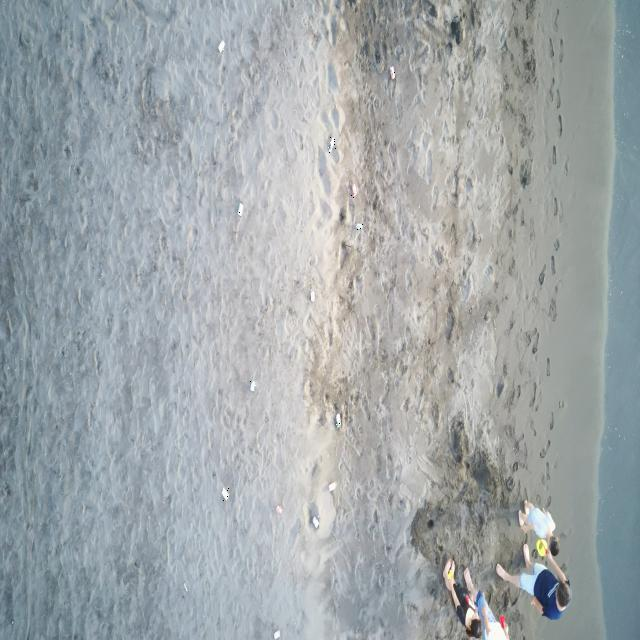Garbage: (535, 539, 547, 556), (499, 615, 507, 635), (327, 136, 335, 151), (388, 65, 395, 80), (236, 202, 243, 216), (327, 480, 335, 491), (312, 515, 319, 527), (221, 488, 228, 500), (350, 183, 356, 196), (335, 412, 340, 427), (249, 380, 255, 391), (273, 631, 280, 639), (219, 40, 224, 51), (275, 504, 281, 513), (355, 223, 362, 230), (311, 289, 315, 301), (184, 582, 187, 592)
